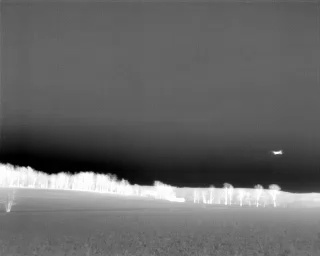DRONE: (268, 146, 287, 161)
